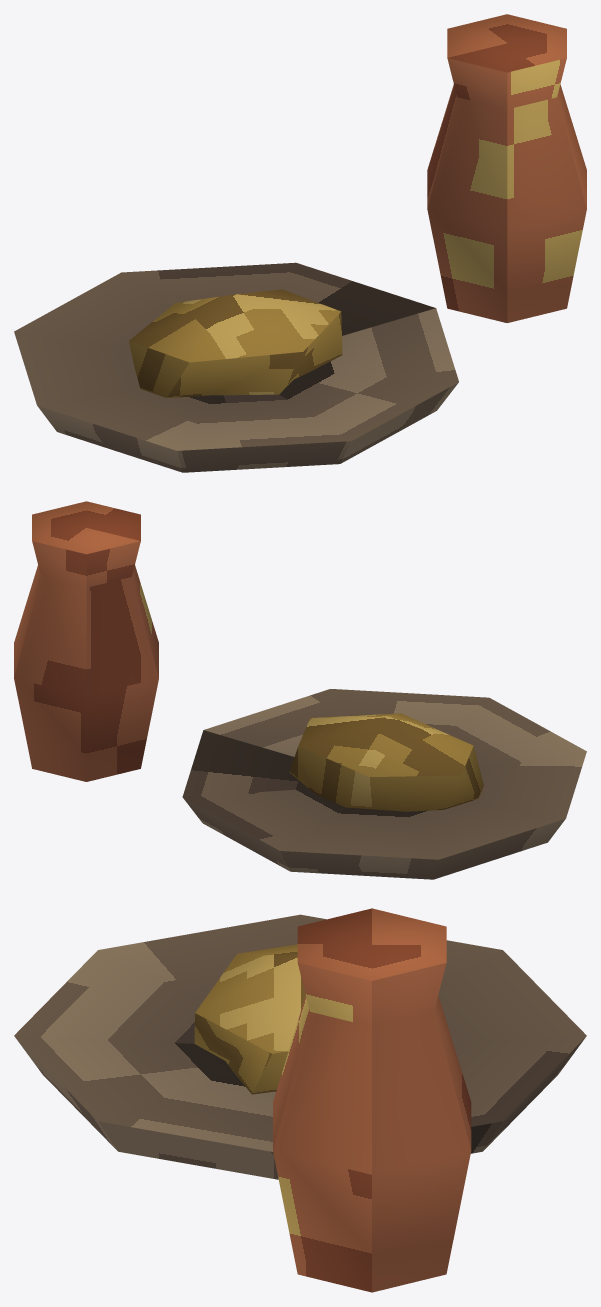
The model's file is mprop.tableware.glb.
3 views of the same model, one above another, from view 1: azimuth 30°, elevation 25°; view 2: azimuth 150°, elevation 25°; view 3: azimuth 270°, elevation 25° (orthographic). The views are drawn at different scales.
Parts seen in each view (by area): view 1: kit_ware, kit_food; view 2: kit_ware, kit_food; view 3: kit_ware, kit_food.
Part boxes in pixels (x1,y1,x2,y2): kit_ware: [14, 14, 586, 472]; kit_food: [129, 289, 342, 397]; kit_ware: [14, 501, 586, 879]; kit_food: [289, 713, 483, 811]; kit_ware: [14, 908, 586, 1292]; kit_food: [194, 944, 305, 1094].
Bounding box in the file's own units: 0.58 × 0.27 × 0.4.
3 materials, 3 textured.
